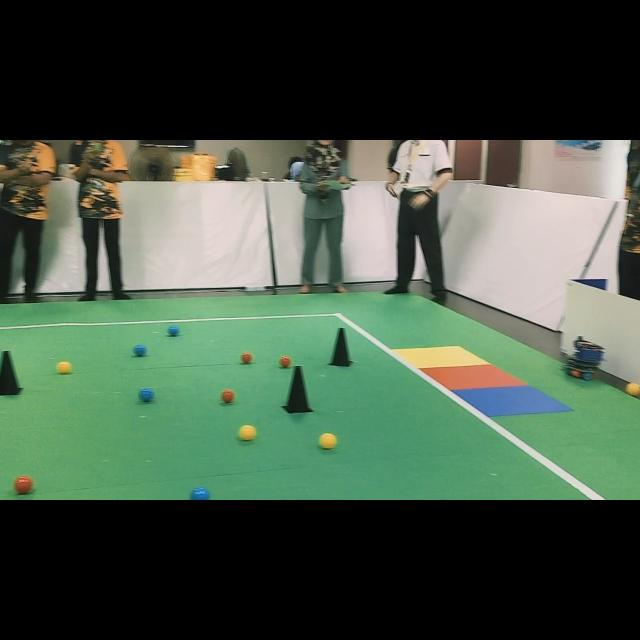ball: (14, 475, 34, 495), (320, 432, 338, 449), (239, 425, 256, 441), (190, 488, 210, 500), (625, 382, 640, 396), (139, 388, 154, 402), (56, 361, 71, 374), (221, 389, 235, 402), (241, 351, 254, 364), (280, 355, 291, 368), (168, 325, 180, 336), (134, 345, 146, 356)
goal: (454, 385, 571, 416), (422, 364, 526, 390), (392, 346, 489, 369)
